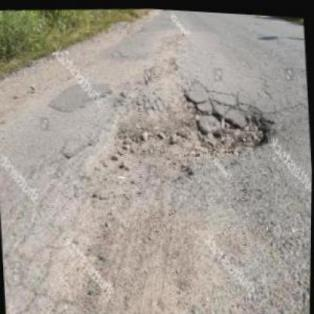Hueco: (184, 79, 278, 157)
